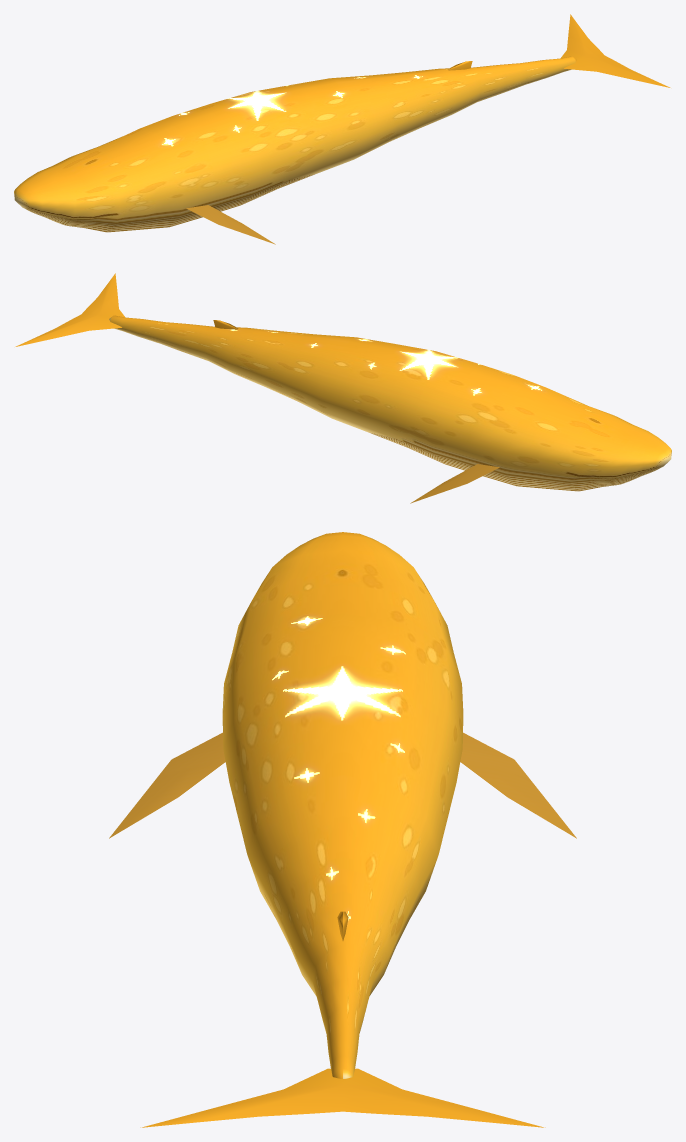
The model's file is Stella.glb.
The picture shows the model from 3 angles, top to bottom: view 1: azimuth 30°, elevation 25°; view 2: azimuth 150°, elevation 25°; view 3: azimuth 270°, elevation 25°; orthographic projection. The views are drawn at different scales.
Visible parts, largest first — view 1: Stella; view 2: Stella; view 3: Stella.
Boxes of the visible parts, x1=… form: Stella: x1=14, y1=14, x2=670, y2=244; Stella: x1=15, y1=273, x2=671, y2=503; Stella: x1=109, y1=532, x2=576, y2=1127.
Size of the model in its own units: 2 by 0.3147 by 0.67.
1 material, 1 textured.
